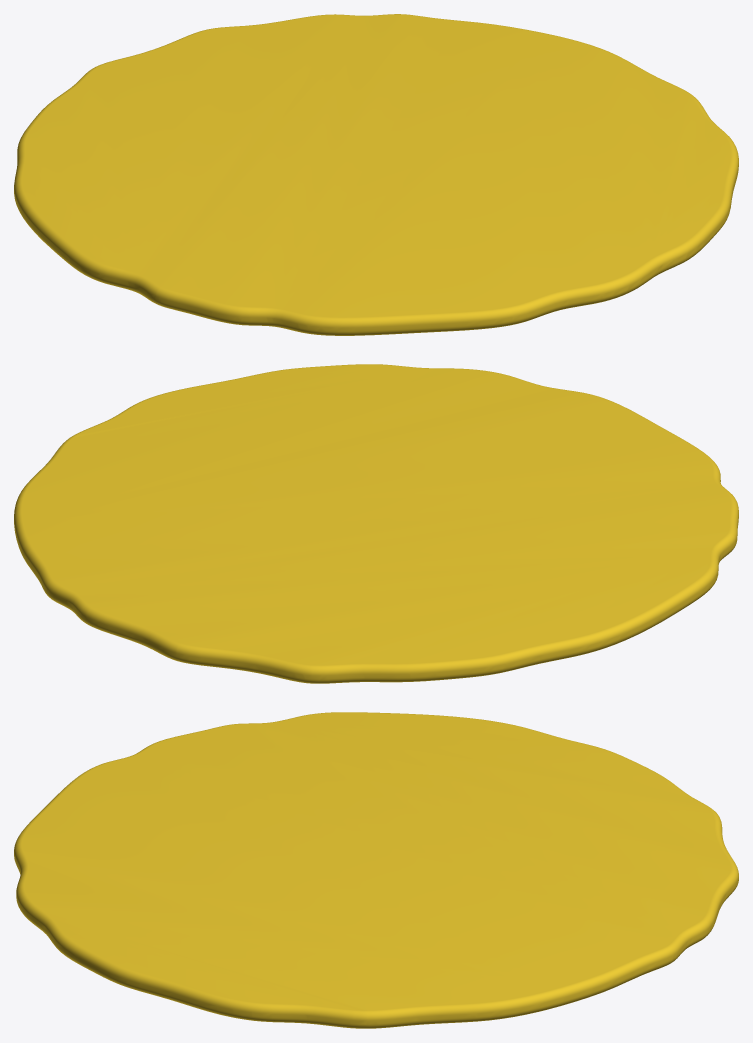
The model's file is crepa.fbx.
3 renders of one model, top to bottom at view 1: azimuth 30°, elevation 25°; view 2: azimuth 150°, elevation 25°; view 3: azimuth 270°, elevation 25°, orthographic.
Parts seen in each view (by area): view 1: crepa; view 2: crepa; view 3: crepa.
Boxes of the visible parts, x1,y1,x2,y2 form: crepa: (14, 14, 738, 335); crepa: (14, 364, 738, 683); crepa: (14, 712, 738, 1028).
Bounding box in the file's own units: 18528 × 500 × 18659.
